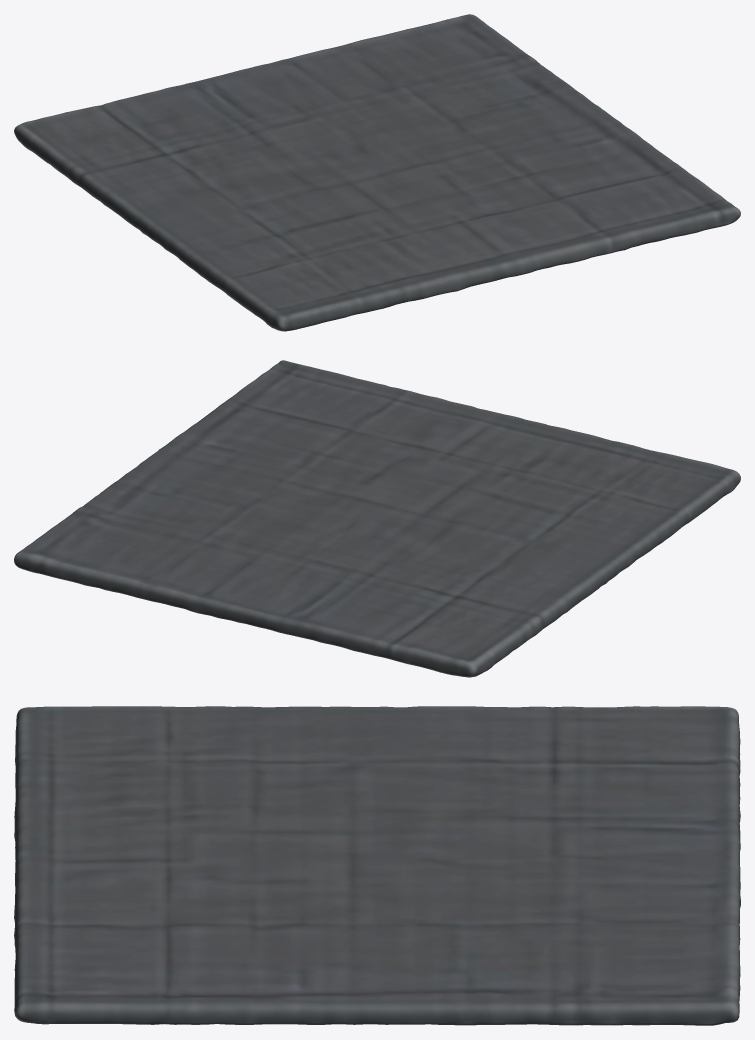
The model's file is 4196fc75ee37_the_street_floor__3.obj.
3 renders of one model, top to bottom at view 1: azimuth 30°, elevation 25°; view 2: azimuth 150°, elevation 25°; view 3: azimuth 270°, elevation 25°, orthographic. The views are drawn at different scales.
Visible parts, largest first — view 1: mesh; view 2: mesh; view 3: mesh.
Part boxes in pixels (<box>): mesh: <box>14,14,740,331</box>; mesh: <box>14,360,740,677</box>; mesh: <box>14,706,740,1025</box>.
Bounding box in the file's own units: 0.9895 × 0.033 × 0.9982.
1 material, 1 textured.
